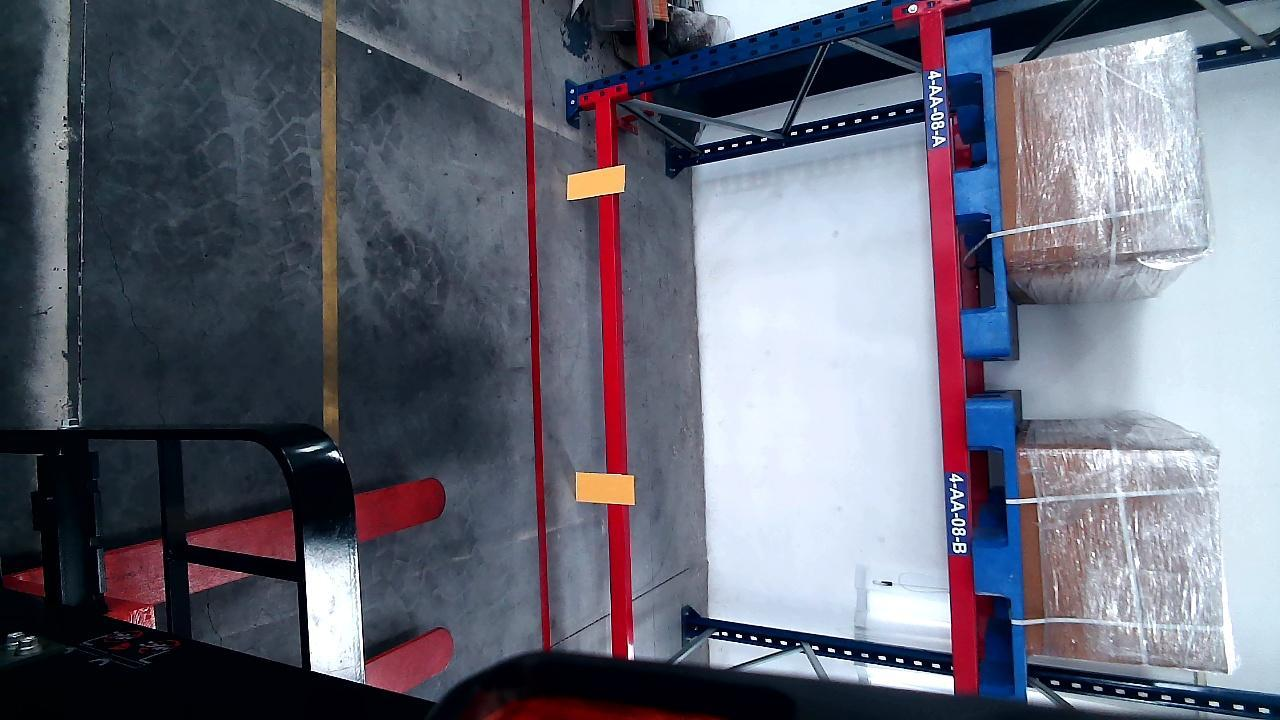red_line: (517, 2, 550, 645)
yellow_line: (318, 6, 341, 420)
